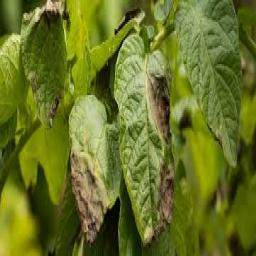Late_blight: (70, 149, 108, 249), (145, 160, 174, 244), (147, 75, 172, 145), (49, 94, 60, 118)
Leaf: (114, 25, 175, 246), (172, 0, 242, 167), (69, 95, 123, 249), (20, 0, 69, 129)
